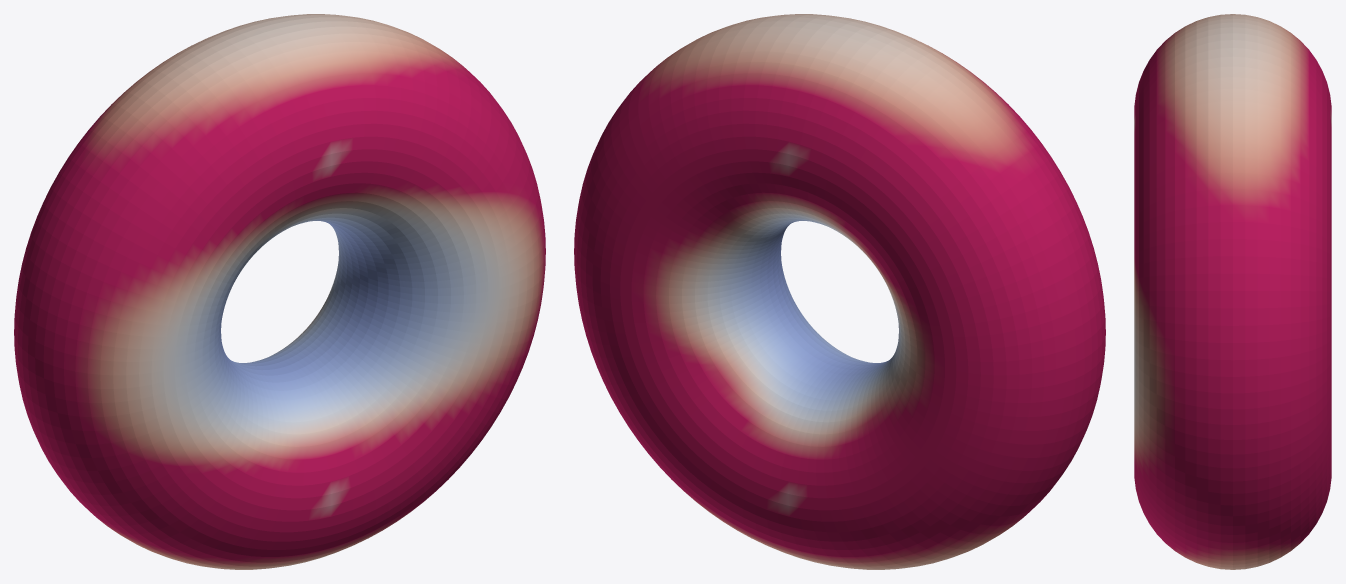
3 views of the same model, side by side, from view 1: azimuth 30°, elevation 25°; view 2: azimuth 150°, elevation 25°; view 3: azimuth 270°, elevation 25° (orthographic). The views are drawn at different scales.
Visible parts, largest first — view 1: world; view 2: world; view 3: world.
Boxes of the visible parts, bbox=[...] form: world: bbox=[14, 14, 545, 569]; world: bbox=[574, 14, 1105, 569]; world: bbox=[1134, 14, 1331, 569].
Size of the model in its own units: 25.87 by 25.87 by 9.18.
